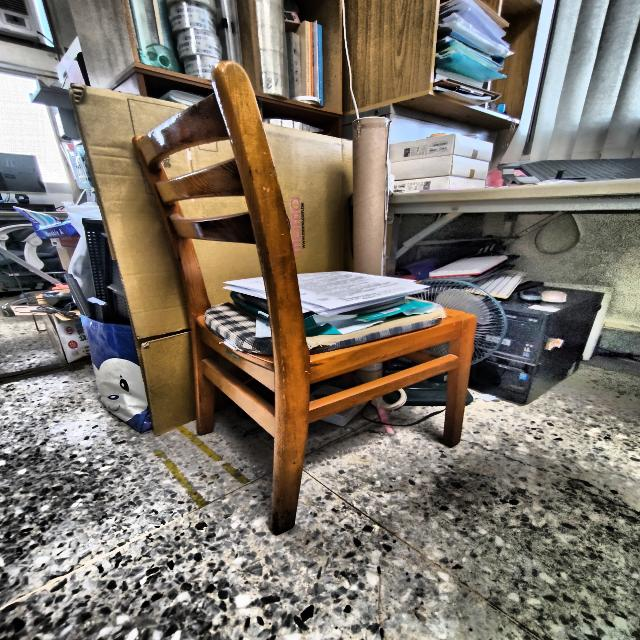cadeira: (116, 59, 488, 542)
